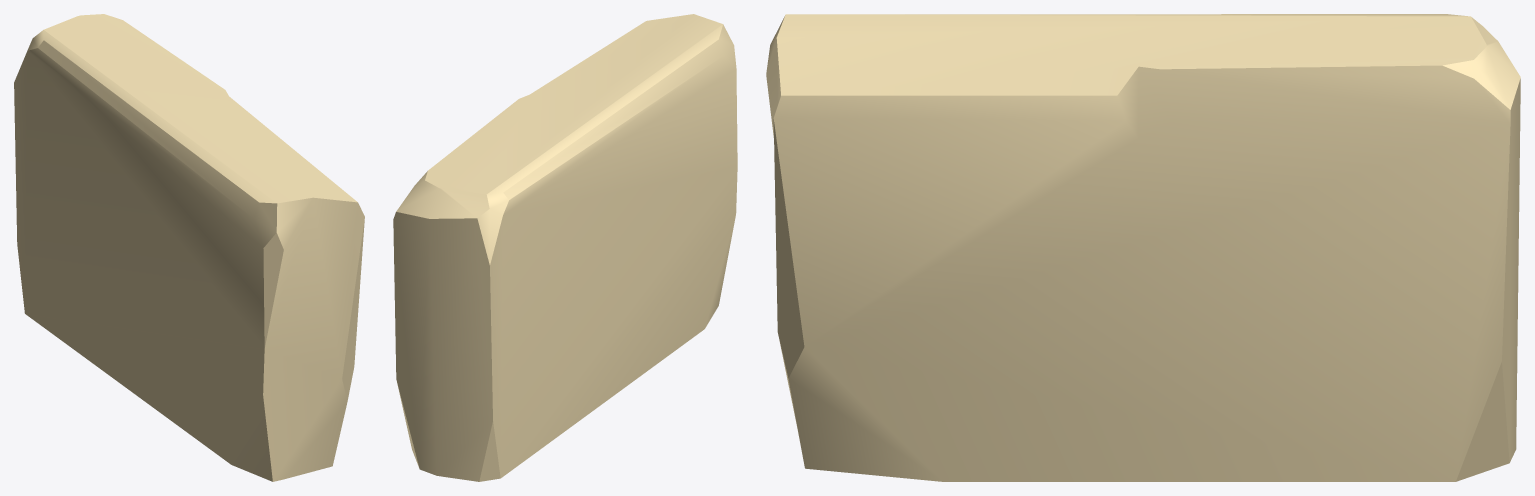
Rendered from Module_Masonry_Panel_LOD02.fbx.
3 renders of one model, left to right at view 1: azimuth 30°, elevation 25°; view 2: azimuth 150°, elevation 25°; view 3: azimuth 270°, elevation 25°, orthographic. The views are drawn at different scales.
Parts seen in each view (by area): view 1: Module_Masonry_Panel_LOD02_Geometry; view 2: Module_Masonry_Panel_LOD02_Geometry; view 3: Module_Masonry_Panel_LOD02_Geometry.
Boxes of the visible parts, x1,y1,x2,y2 form: Module_Masonry_Panel_LOD02_Geometry: [14, 14, 364, 481]; Module_Masonry_Panel_LOD02_Geometry: [393, 14, 737, 481]; Module_Masonry_Panel_LOD02_Geometry: [766, 14, 1520, 481].
Bounding box in the file's own units: 0.5368 × 1.49 × 2.49.
